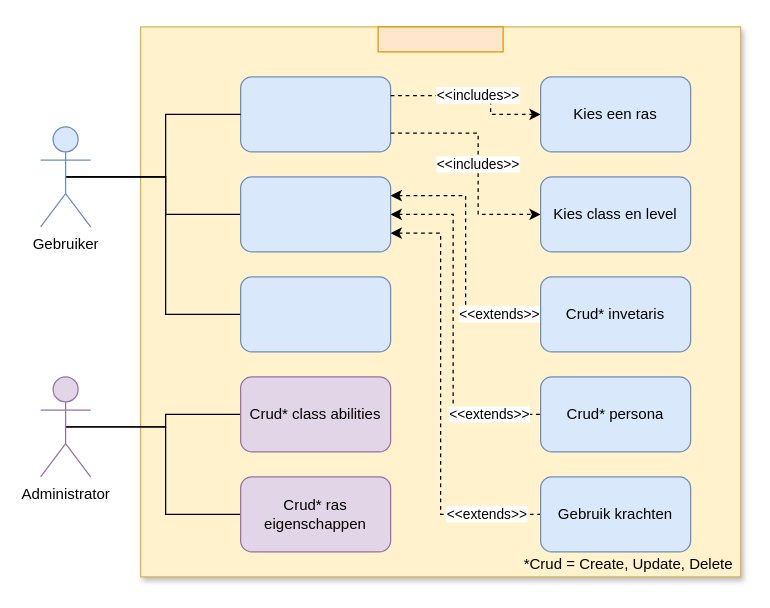
Image size: 770x608. Some labels were removed from this diagram. Here are the shapes that lost their labels. From the top down, the centre of each, then its label:
At (x=440, y=39): "Character Vault".
At (x=315, y=114): "Creëer persona".
At (x=315, y=214): "Bekijk persona".
At (x=315, y=314): "Rol digitale dobbelstenen".
